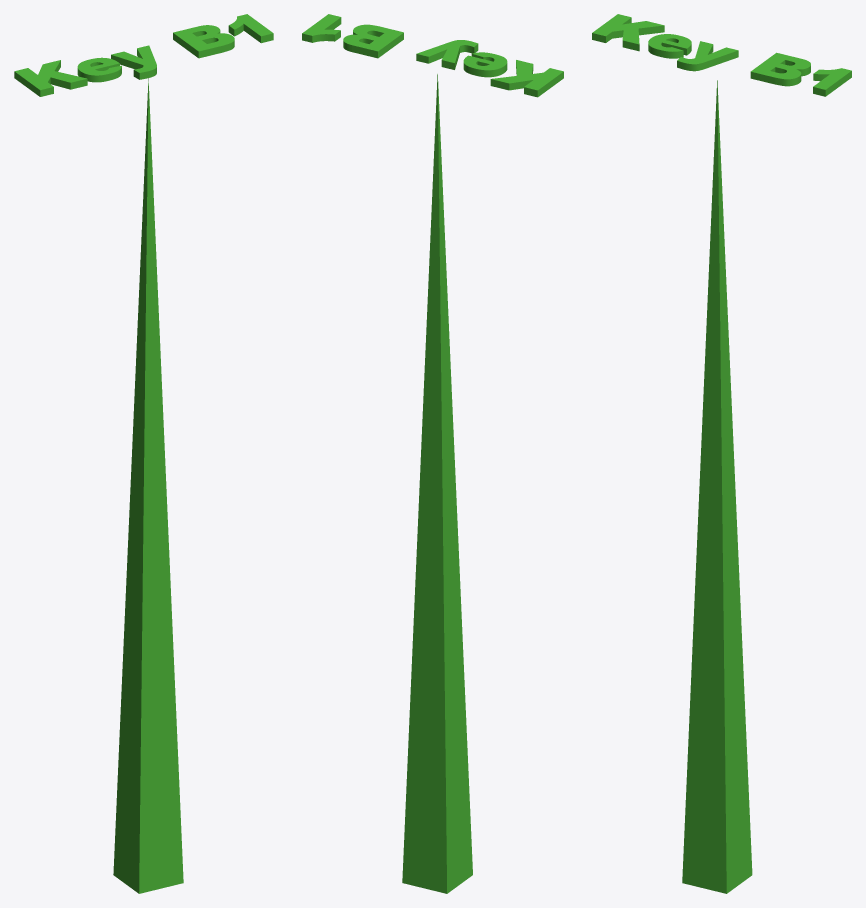
The model's file is Tag_Key_B1.FBX.
3 views of the same model, side by side, from view 1: azimuth 30°, elevation 25°; view 2: azimuth 150°, elevation 25°; view 3: azimuth 330°, elevation 25° (orthographic).
Parts seen in each view (by area): view 1: Tag_Nail_Key002, Tag_Text_Key_03; view 2: Tag_Nail_Key002, Tag_Text_Key_03; view 3: Tag_Nail_Key002, Tag_Text_Key_03.
Part boxes in pixels (left/top/right/bottom): Tag_Nail_Key002: left=113, top=78, right=183, bottom=893; Tag_Text_Key_03: left=14, top=14, right=273, bottom=96; Tag_Nail_Key002: left=402, top=74, right=472, bottom=893; Tag_Text_Key_03: left=302, top=14, right=563, bottom=97; Tag_Nail_Key002: left=682, top=80, right=752, bottom=893; Tag_Text_Key_03: left=592, top=14, right=851, bottom=96.
Size of the model in its own units: 577 by 1944 by 145.
